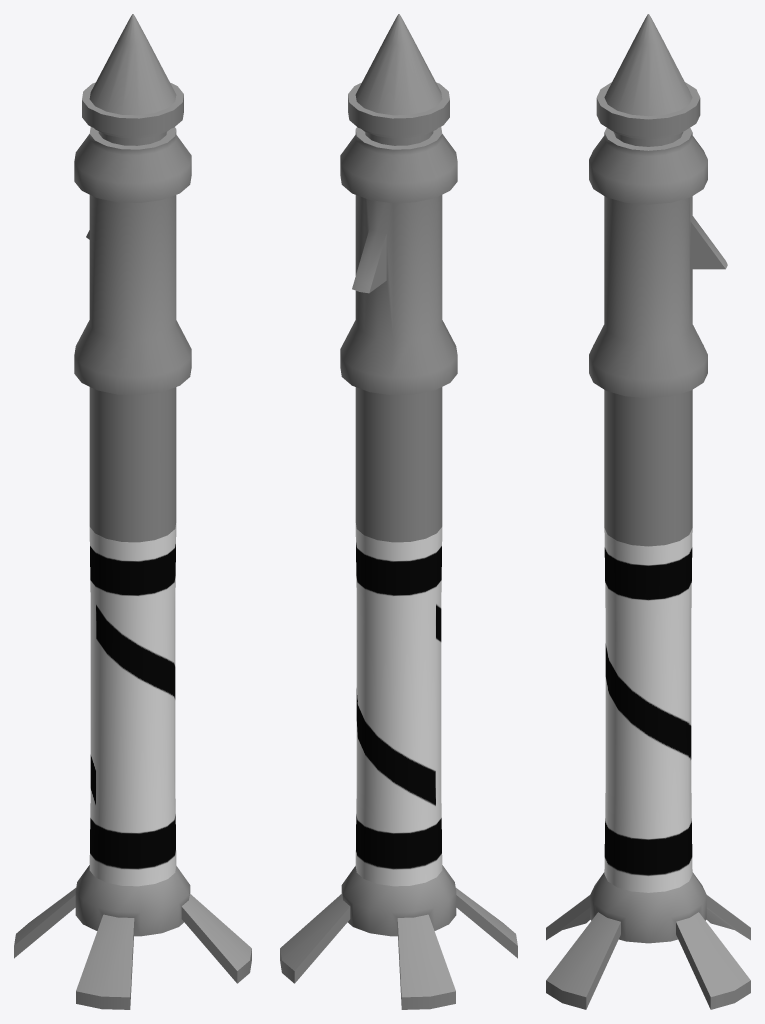
File: Missile_7_NEW.fbx
3 renders of one model, left to right at view 1: azimuth 30°, elevation 25°; view 2: azimuth 150°, elevation 25°; view 3: azimuth 270°, elevation 25°, orthographic.
Visible parts, largest first — view 1: Cylinder, Cylinder_1; view 2: Cylinder, Cylinder_1; view 3: Cylinder, Cylinder_1.
Boxes of the visible parts, x1=… form: Cylinder: x1=14, y1=14, x2=251, y2=1009; Cylinder_1: x1=89, y1=523, x2=176, y2=886; Cylinder: x1=280, y1=14, x2=517, y2=1009; Cylinder_1: x1=355, y1=523, x2=442, y2=886; Cylinder: x1=546, y1=14, x2=750, y2=1009; Cylinder_1: x1=604, y1=528, x2=692, y2=892.
Bounding box in the file's own units: 2.94 × 15.11 × 2.94.
